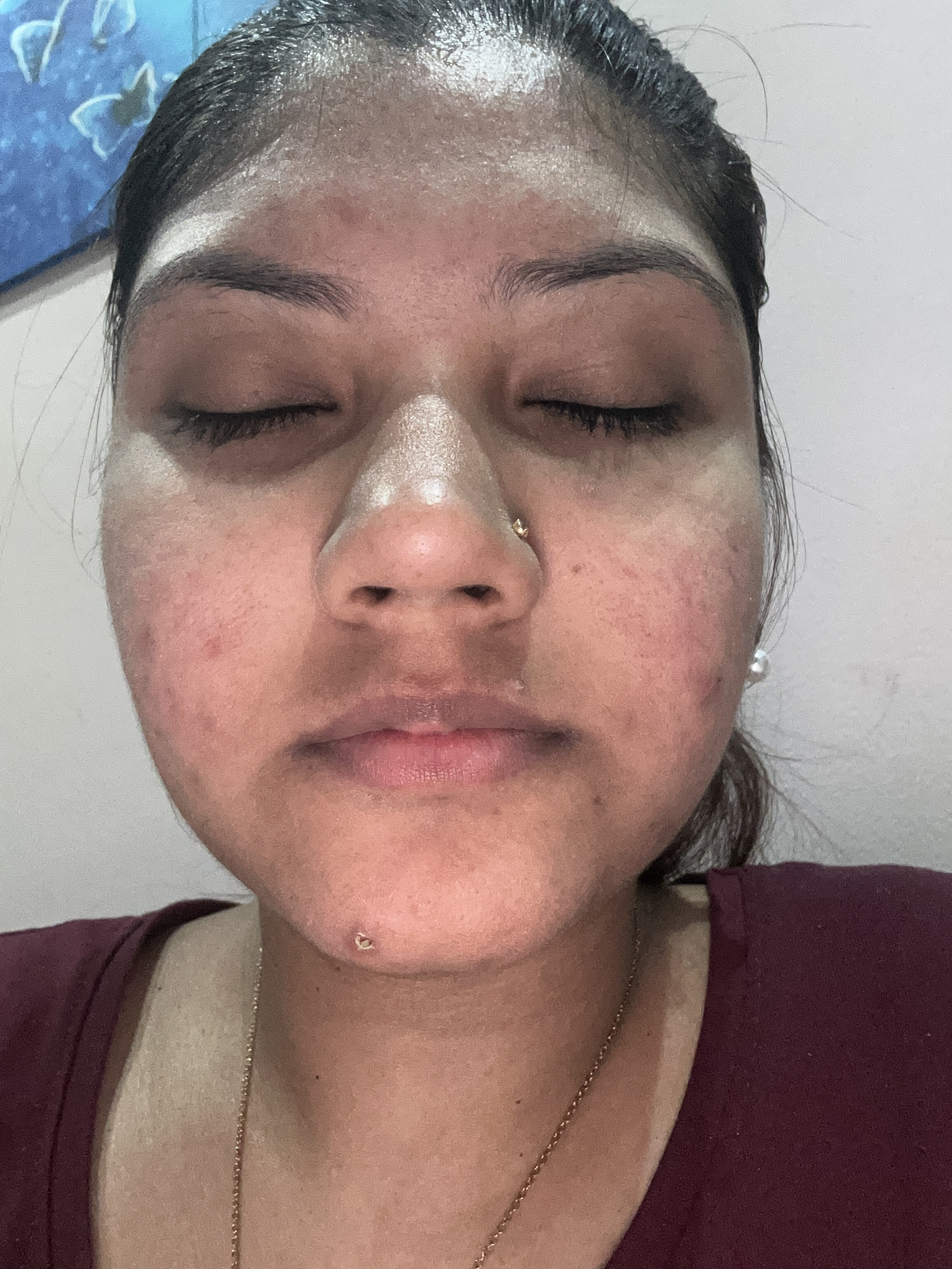cyst: (344, 915, 381, 964)
